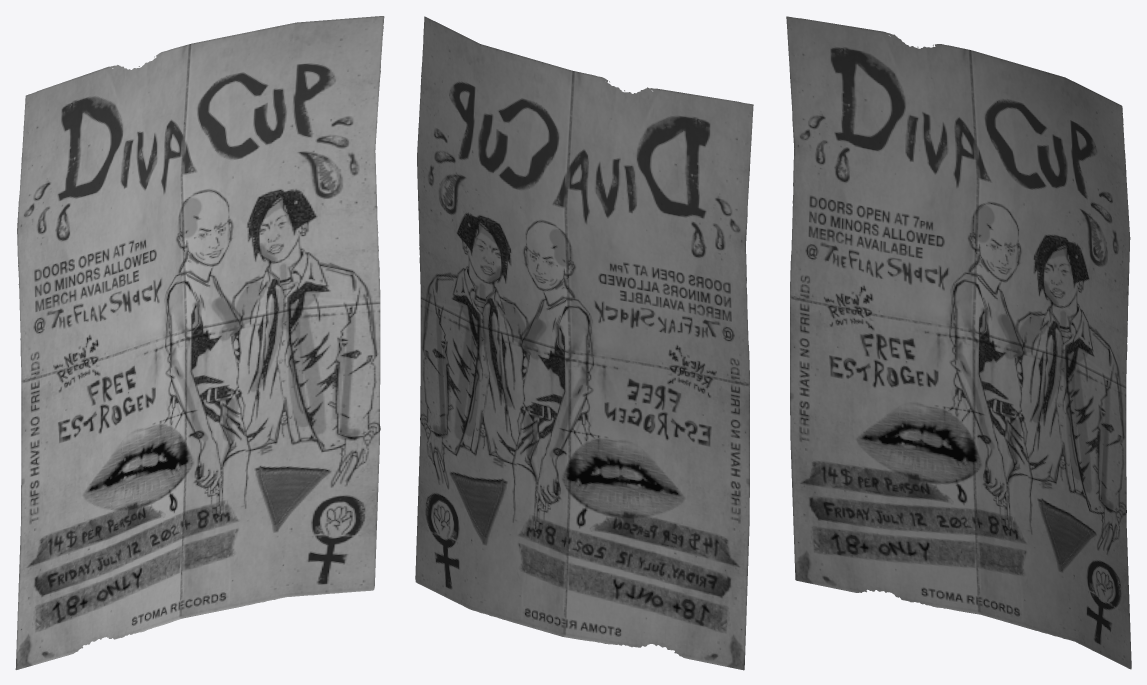
File: punk_poster_2.fbx
The picture shows the model from 3 angles, left to right: view 1: azimuth 30°, elevation 25°; view 2: azimuth 150°, elevation 25°; view 3: azimuth 330°, elevation 25°; orthographic projection. The views are drawn at different scales.
Parts seen in each view (by area): view 1: punk_poster_2; view 2: punk_poster_2; view 3: punk_poster_2.
Part boxes in pixels (box(x1,y1,x2,y2)): punk_poster_2: box(15, 16, 384, 669); punk_poster_2: box(415, 16, 753, 670); punk_poster_2: box(786, 16, 1131, 669).
Size of the model in its own units: 45.01 by 71.06 by 6.53.
